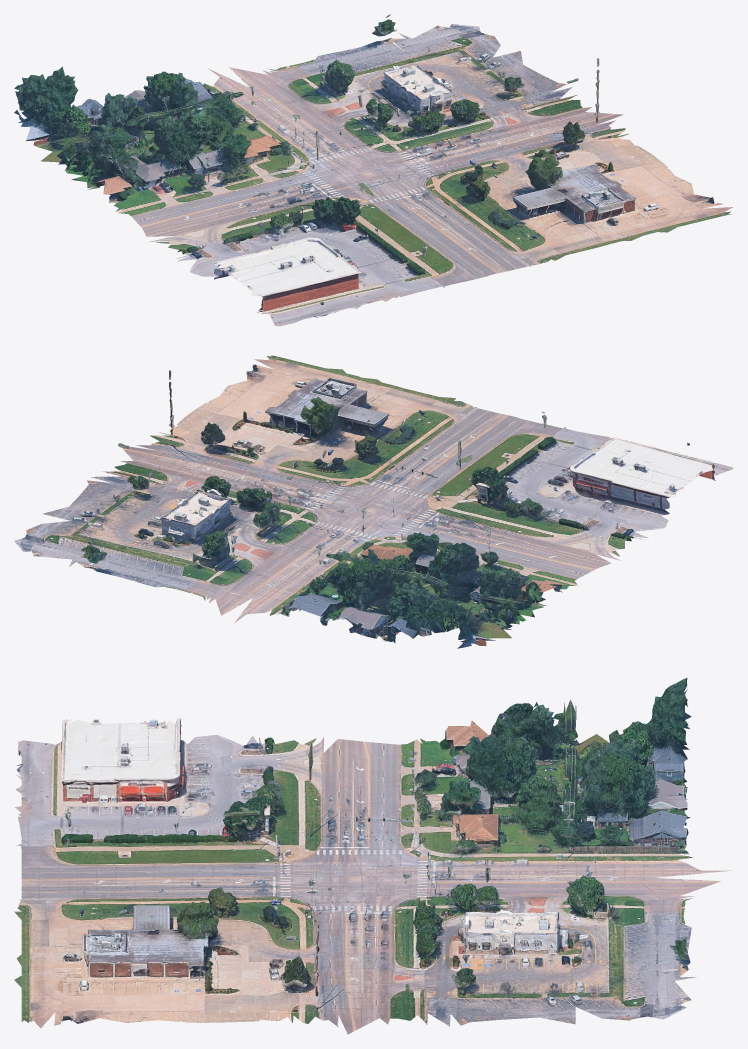
3 renders of one model, top to bottom at view 1: azimuth 30°, elevation 25°; view 2: azimuth 150°, elevation 25°; view 3: azimuth 270°, elevation 25°, orthographic. The views are drawn at different scales.
Parts seen in each view (by area): view 1: 20537052505170442510; view 2: 20537052505170442510; view 3: 20537052505170442510.
Part boxes in pixels (x1,y1,x2,y2): 20537052505170442510: (14, 14, 733, 326); 20537052505170442510: (14, 355, 733, 648); 20537052505170442510: (14, 678, 730, 1034).
Size of the model in its own units: 172 by 26.41 by 174.
Materials: 37 (37 with a texture image).
